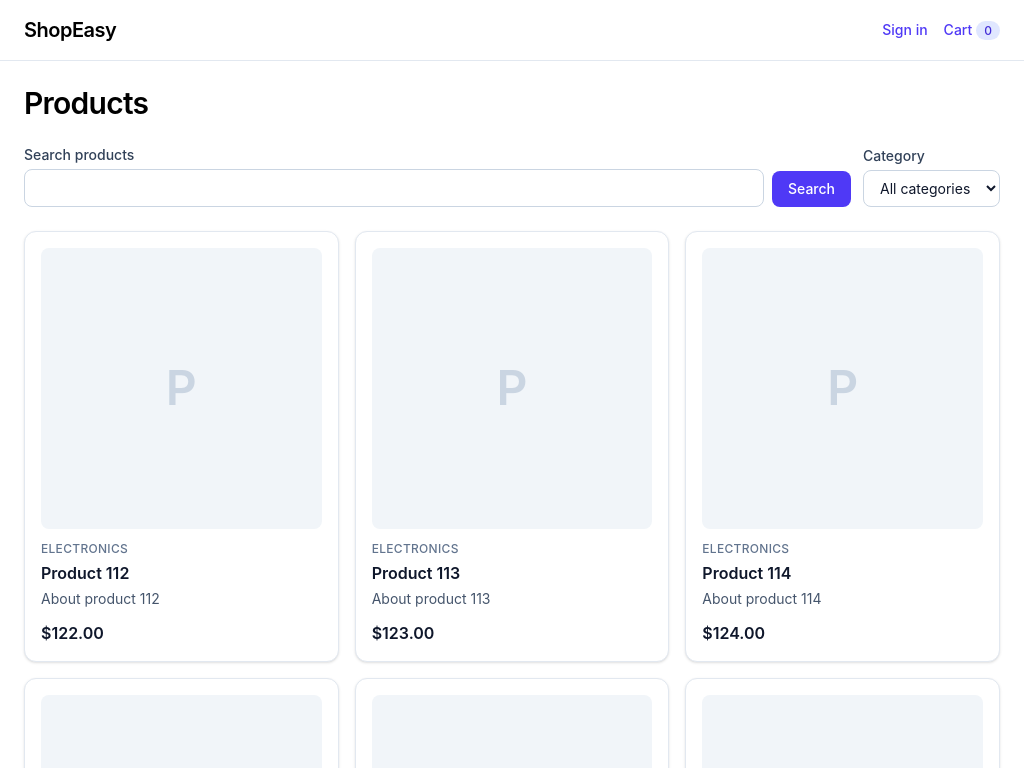
Test: ProductListPage › searches, puts the text in the address, and starts again at the first page
Type "lamp" into the search field labelled "Search products".
click(394, 188); type("lamp")  # box [24, 169, 764, 207]
Then press Enter
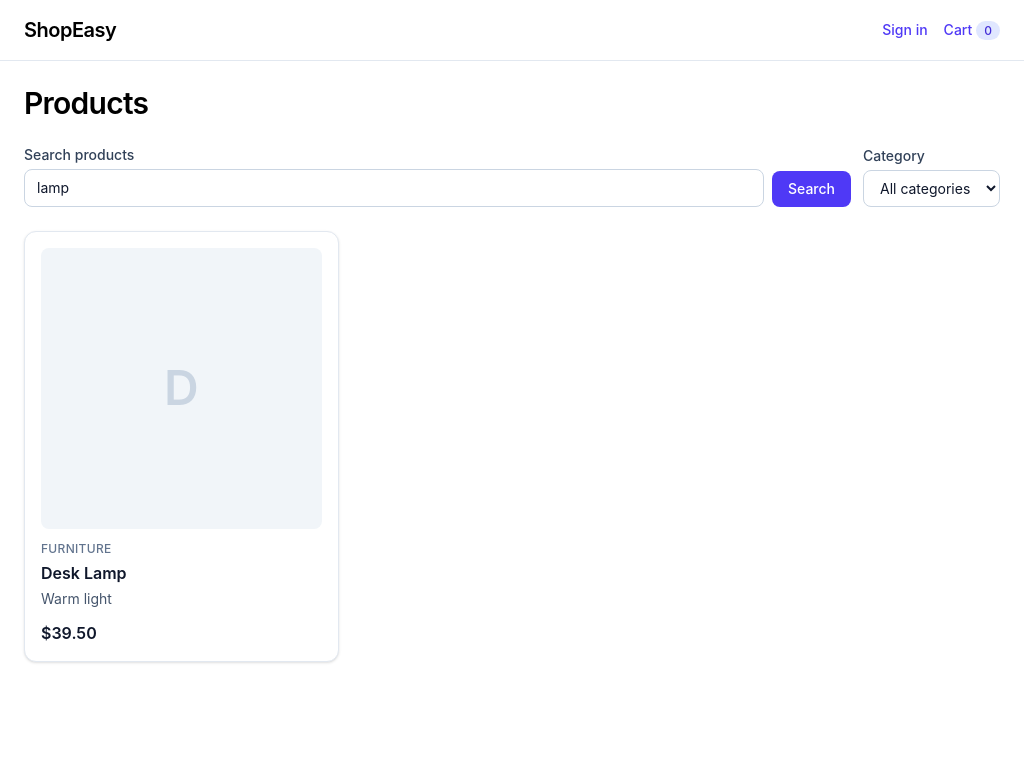
Expected: the link "Desk Lamp" is shown, [41, 563, 127, 583]
Expected: the number of list items is 1, [24, 231, 339, 662]
